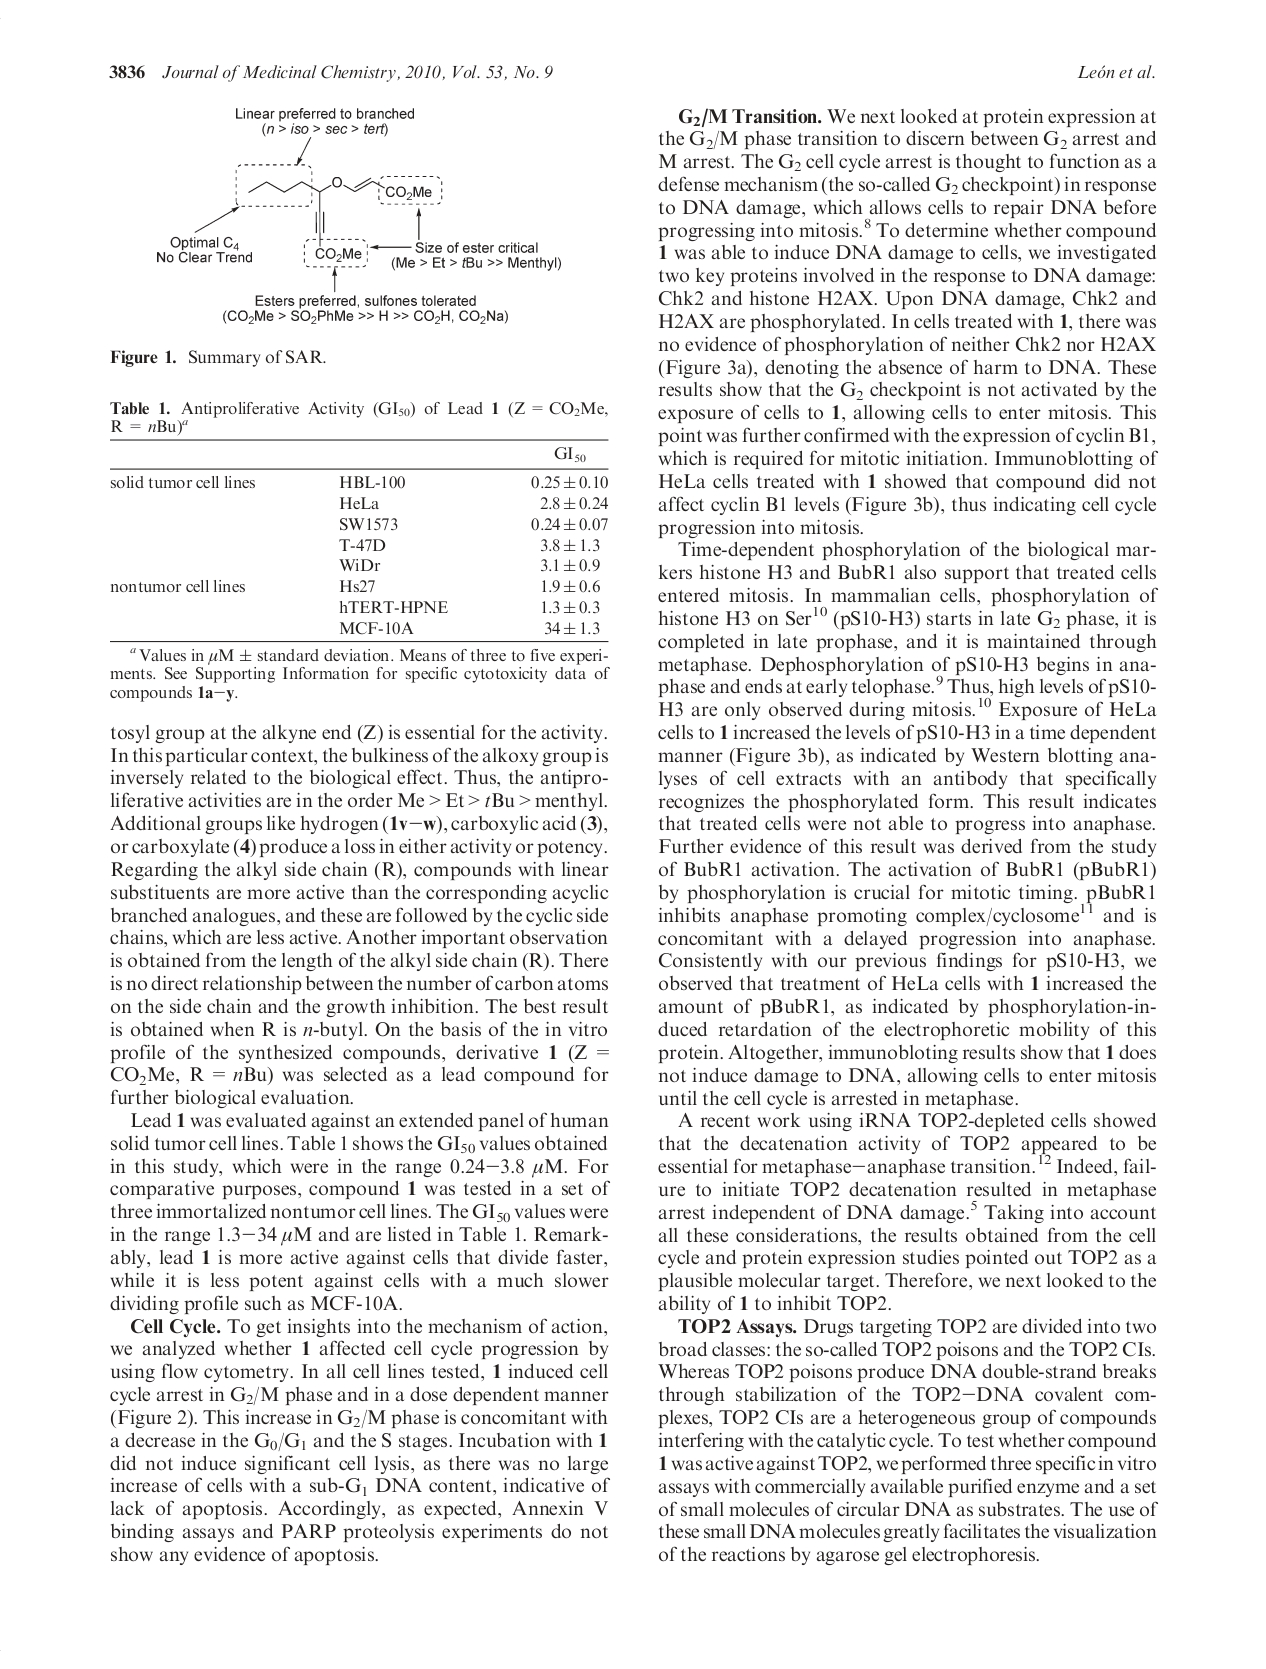exist_molecular: (247, 177, 438, 263)
